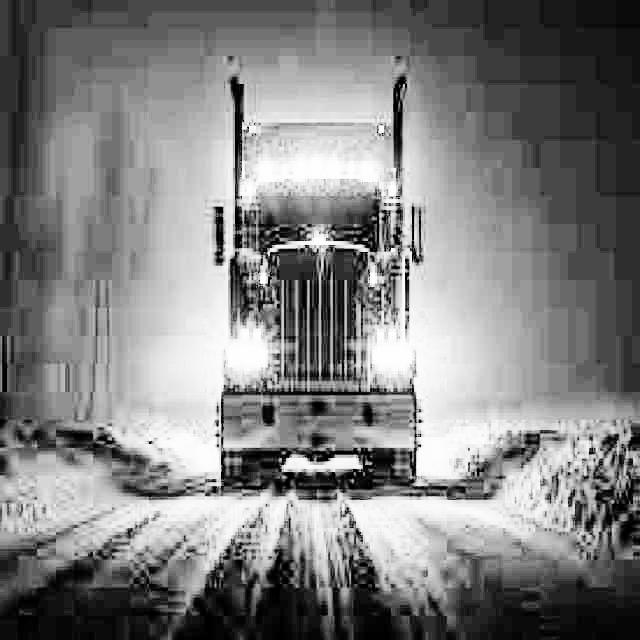Truck: (210, 67, 424, 490)
